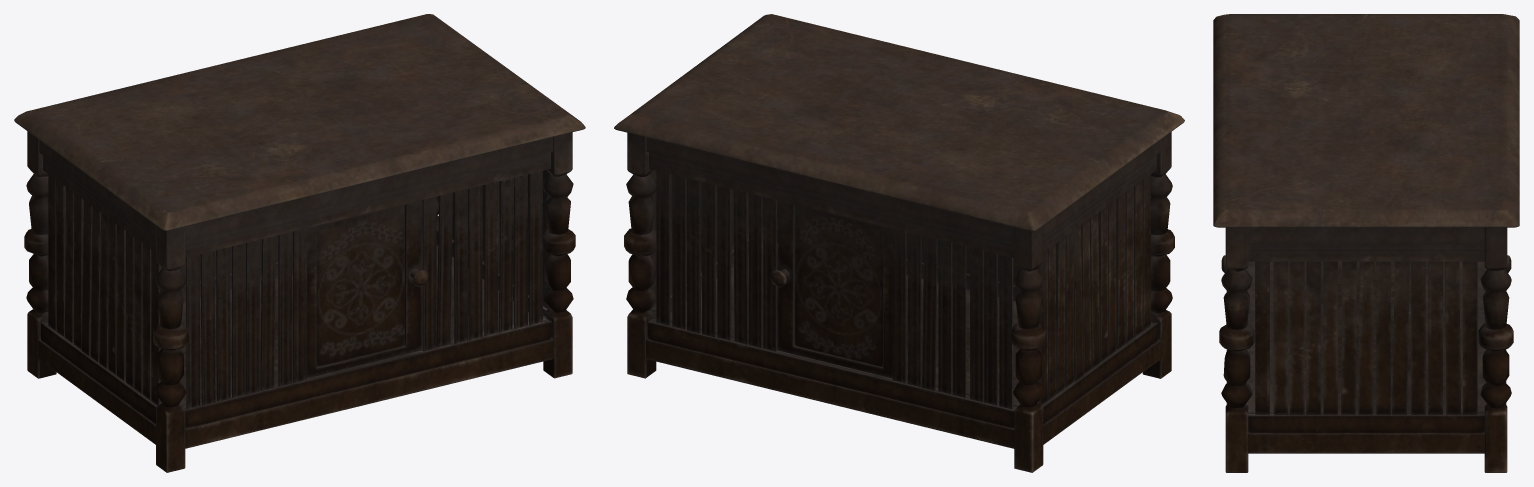
The model's file is gallinera_table_lod1.glb.
3 renders of one model, left to right at view 1: azimuth 30°, elevation 25°; view 2: azimuth 150°, elevation 25°; view 3: azimuth 270°, elevation 25°, orthographic.
Parts seen in each view (by area): view 1: gallinera_table, gallinera_table_door_a; view 2: gallinera_table, gallinera_table_door_b; view 3: gallinera_table.
Part boxes in pixels (bbox=[...]): gallinera_table: bbox=[14, 14, 585, 472]; gallinera_table_door_a: bbox=[307, 200, 428, 378]; gallinera_table: bbox=[614, 14, 1184, 472]; gallinera_table_door_b: bbox=[770, 200, 892, 378]; gallinera_table: bbox=[1213, 14, 1519, 472].
Bounding box in the file's own units: 0.8301 × 0.4878 × 0.5183.
Materials: 1 (1 with a texture image).
